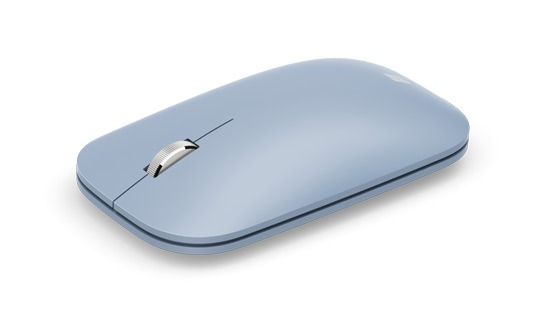mouse: (79, 55, 468, 258)
